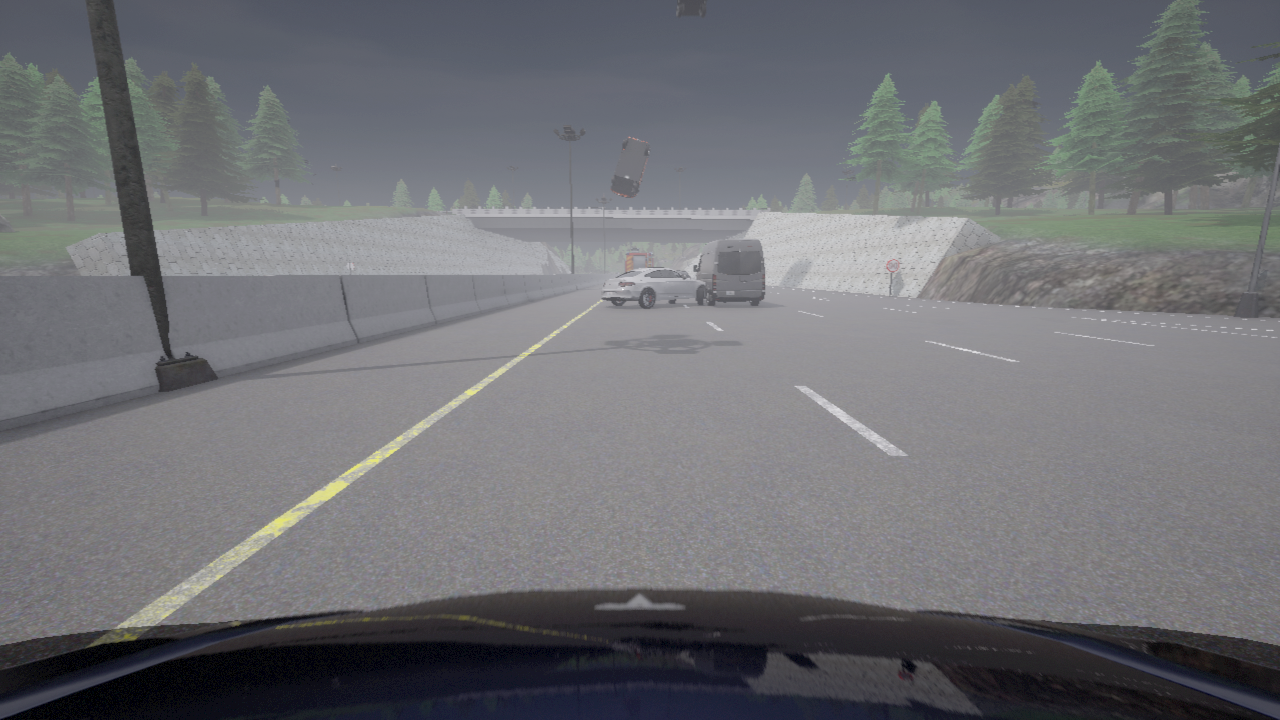cyclist: (0, 588, 1279, 719), (693, 239, 764, 305), (601, 267, 705, 308), (610, 137, 649, 197), (625, 248, 653, 271), (676, 0, 706, 17), (675, 270, 690, 277)
